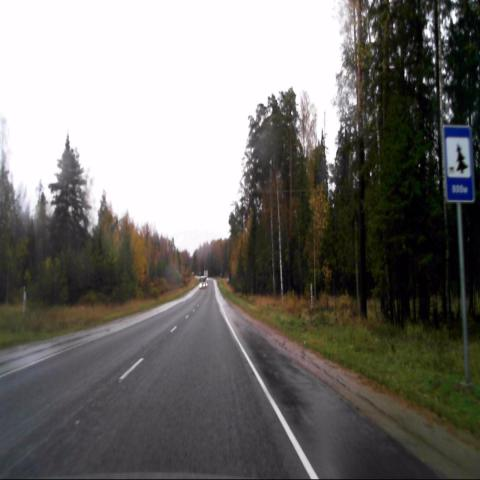7_11: (443, 123, 476, 205)
